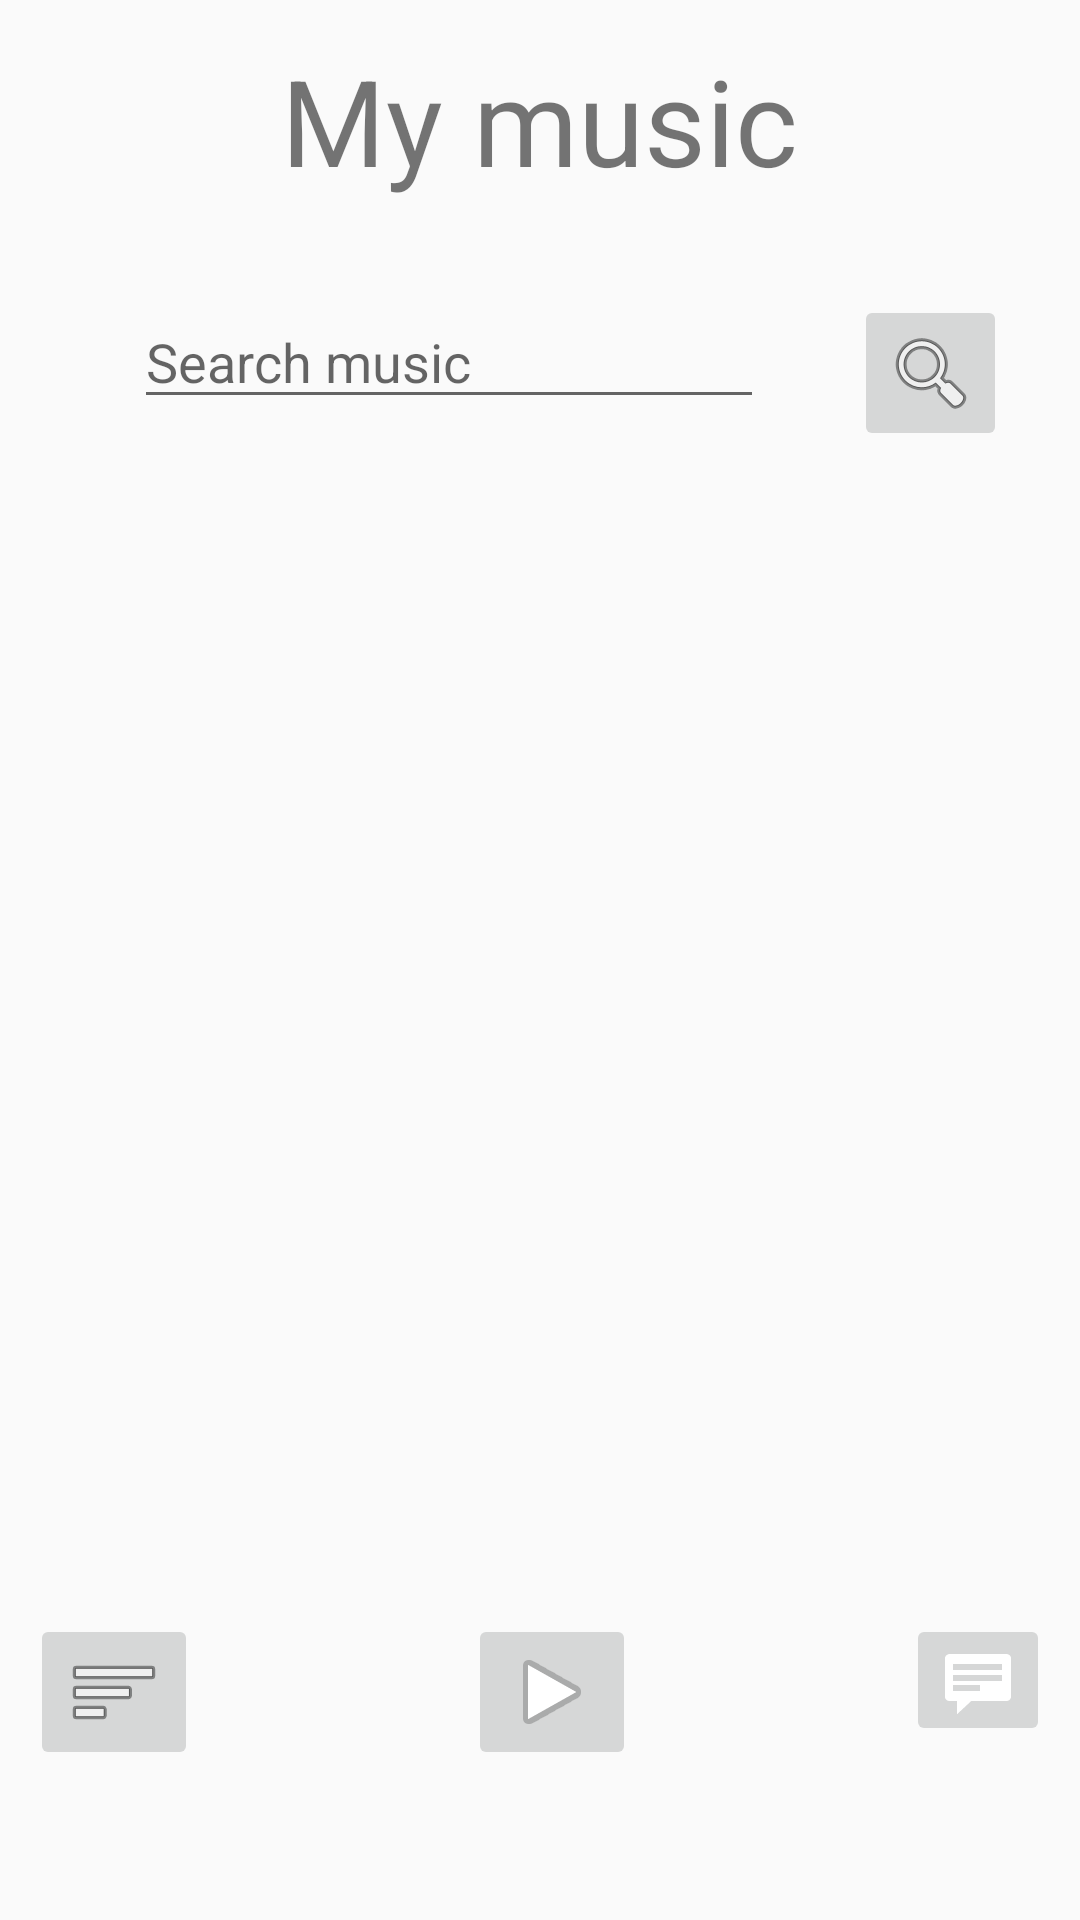

Screen size 1080x1920. Icon name, then its box in pixels as {"x1": x1, "y1": y1, "x2": x2, "y2": y2}:
chat: {"x1": 918, "y1": 1632, "x2": 1038, "y2": 1728}
play: {"x1": 480, "y1": 1632, "x2": 624, "y2": 1752}
sort by size: {"x1": 42, "y1": 1632, "x2": 186, "y2": 1752}
